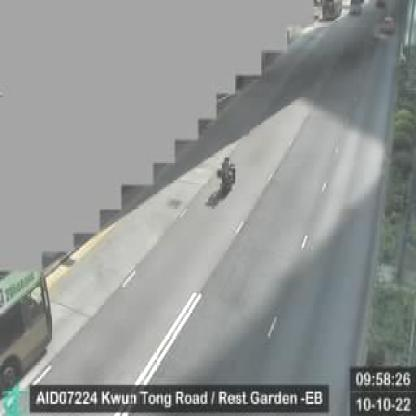Car: (382, 18, 396, 34)
